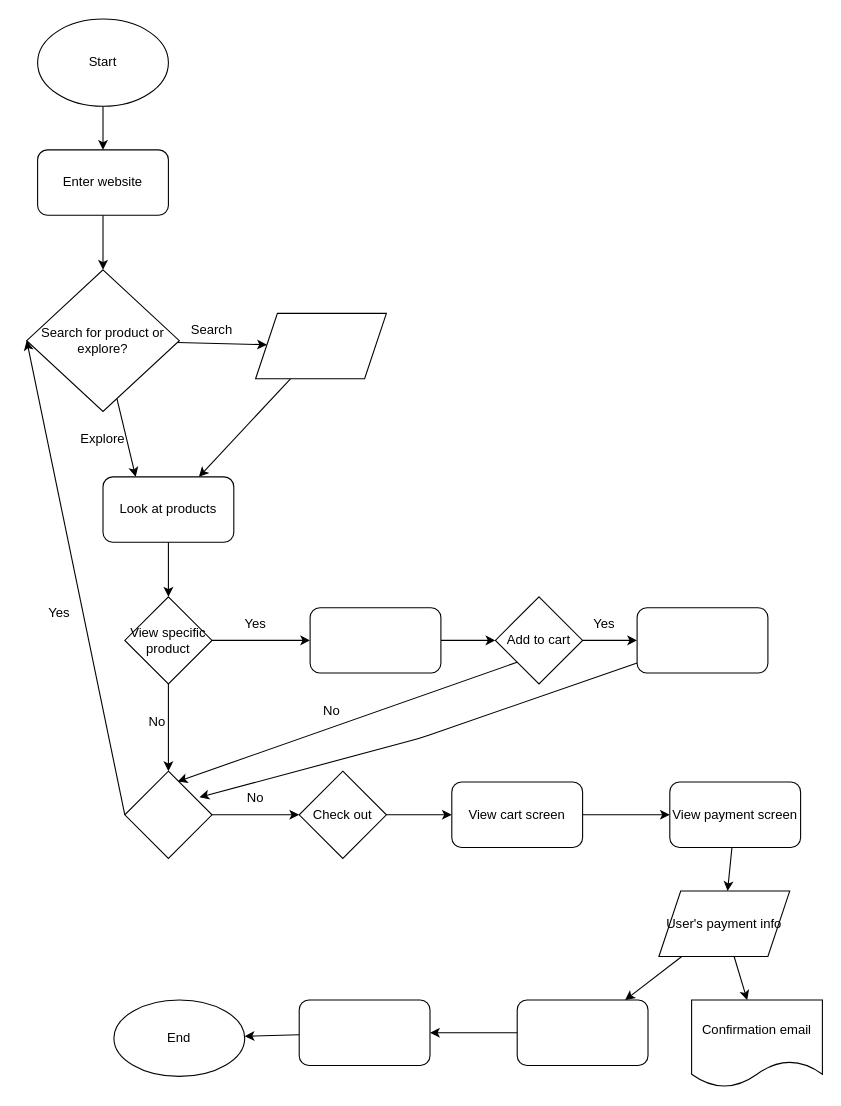
This 841x1106 diagram has some shape labels left out. Each missing label, with the centre of its shape:
Continue shopping: (x=168, y=814)
Leave website: (x=364, y=1032)
Order confirmation screen: (x=582, y=1032)
Product's webpage opens: (x=375, y=640)
Receive add to cart confirmation: (x=702, y=640)
Search query from user: (x=320, y=345)
